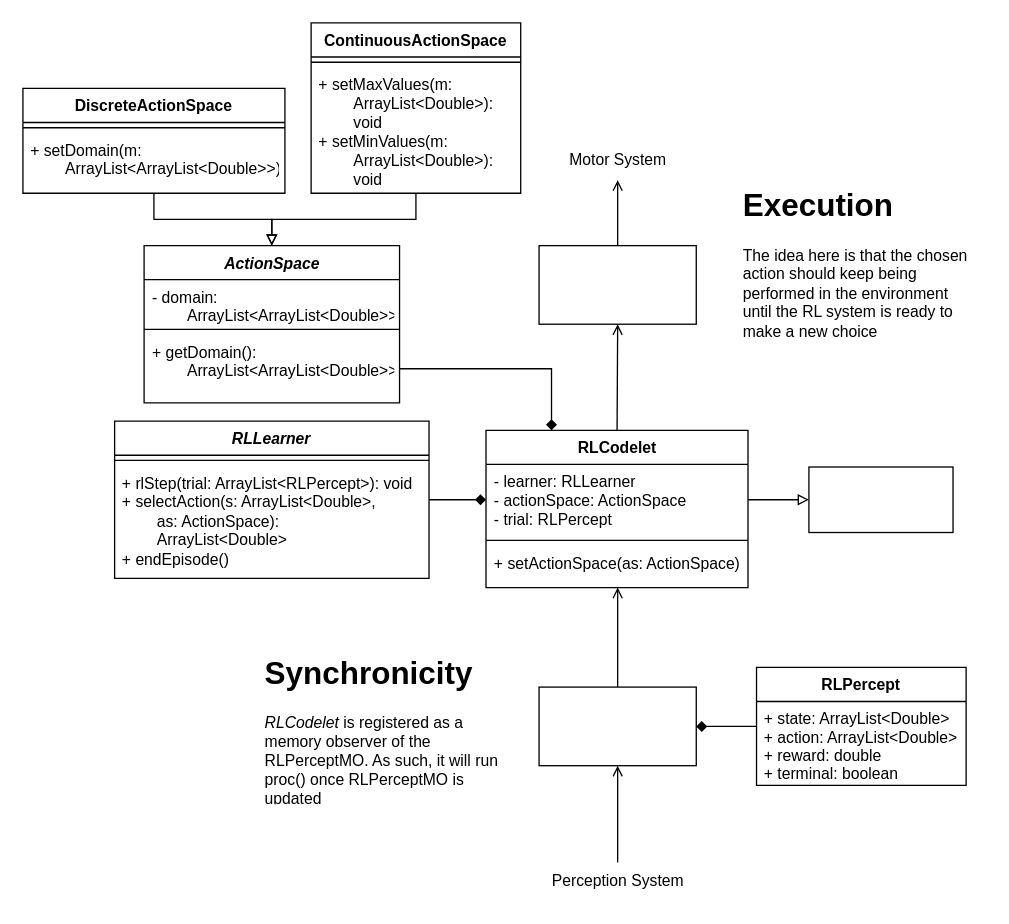
Some shapes in this 1009 by 924 pixel diagram are drawn without their labels. The centre of each missing label's shape, as x and y in pixels:
Codelet: the point at 880,499
RLActionMO: the point at 617,284
RLPerceptMO: the point at 617,726
